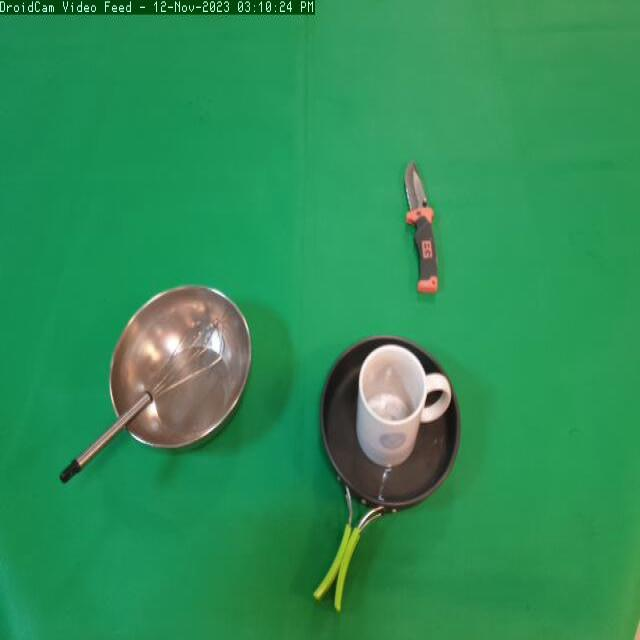bowl: (104, 282, 256, 453)
cup: (354, 344, 455, 472)
knife: (393, 151, 450, 302)
pan: (310, 320, 475, 617)
whisk: (62, 316, 230, 478)
